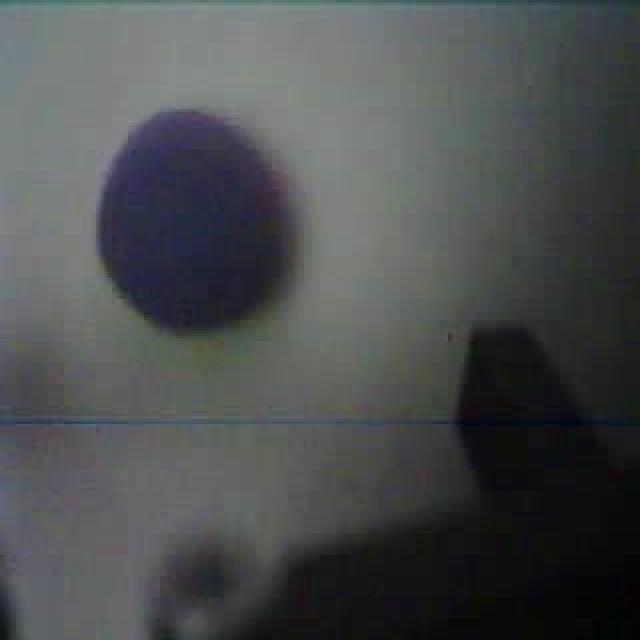blue_ball: (92, 101, 300, 339)
